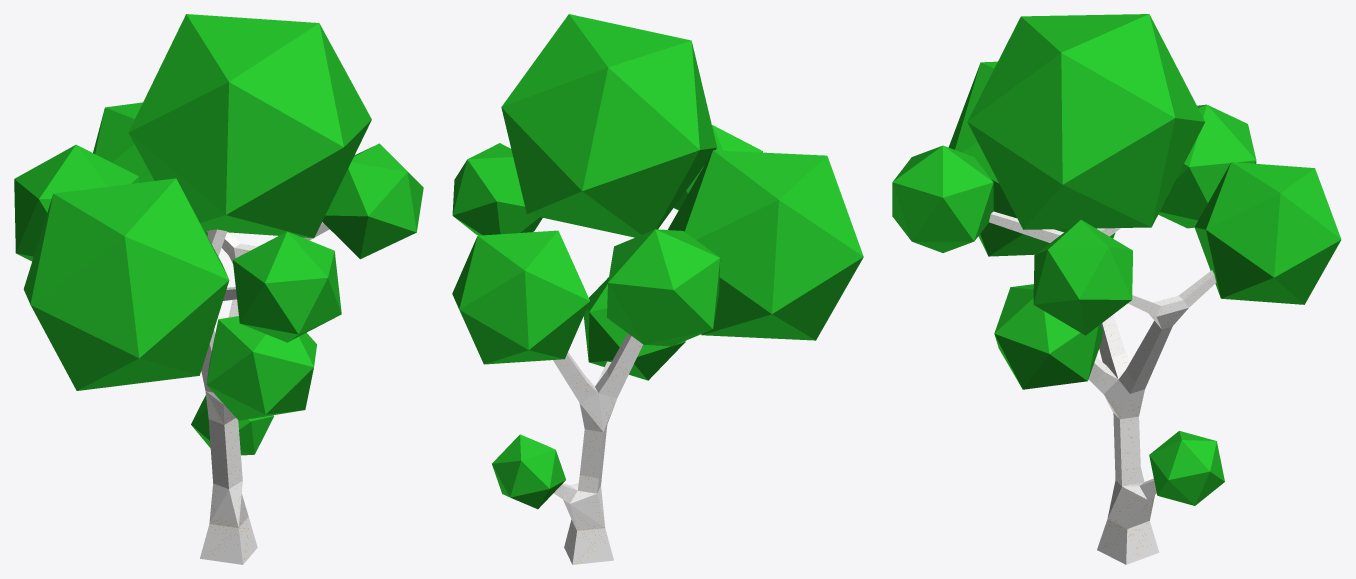
File: Birch.fbx
3 renders of one model, left to right at view 1: azimuth 30°, elevation 25°; view 2: azimuth 150°, elevation 25°; view 3: azimuth 270°, elevation 25°, orthographic. The views are drawn at different scales.
Parts seen in each view (by area): view 1: TreeBirch.007; view 2: TreeBirch.007; view 3: TreeBirch.007.
Part boxes in pixels (bbox=[...]): TreeBirch.007: bbox=[14, 14, 423, 564]; TreeBirch.007: bbox=[452, 14, 863, 564]; TreeBirch.007: bbox=[892, 14, 1341, 564].
Bounding box in the file's own units: 137 × 170 × 132.
